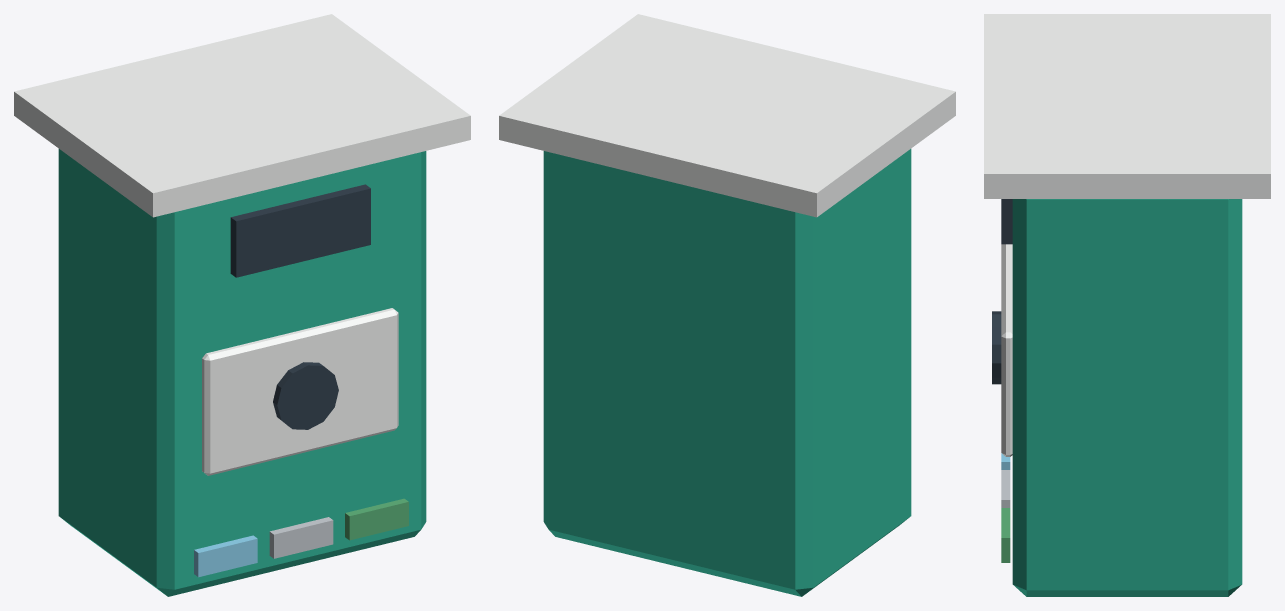
The model's file is machine_s.fbx.
The picture shows the model from 3 angles, left to right: view 1: azimuth 30°, elevation 25°; view 2: azimuth 150°, elevation 25°; view 3: azimuth 270°, elevation 25°; orthographic projection. The views are drawn at different scales.
Parts seen in each view (by area): view 1: machine_s; view 2: machine_s; view 3: machine_s.
Part boxes in pixels (bbox=[...]): machine_s: bbox=[14, 14, 470, 596]; machine_s: bbox=[499, 14, 955, 596]; machine_s: bbox=[984, 14, 1270, 596].
Size of the model in its own units: 1.65 by 2.12 by 1.25.
